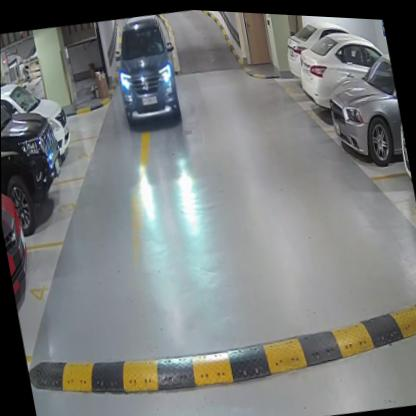np: (140, 93, 157, 103)
